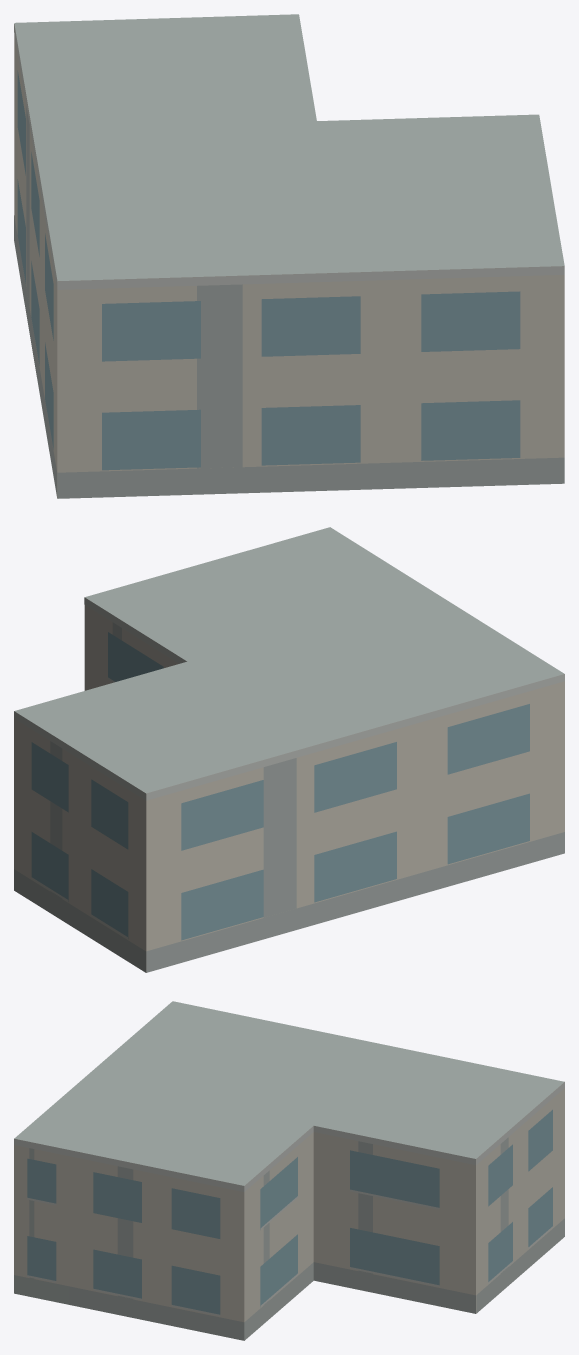
Rendered from residential-a7846ea3-0d1a-451b-8f24-9fb4dfc0b4aa.glb.
3 renders of one model, top to bottom at view 1: azimuth 30°, elevation 25°; view 2: azimuth 150°, elevation 25°; view 3: azimuth 270°, elevation 25°, orthographic. The views are drawn at different scales.
Parts seen in each view (by area): view 1: residential-a7846ea3-0d1a-451b-8f24-9fb4dfc0b4aa.tmp; view 2: residential-a7846ea3-0d1a-451b-8f24-9fb4dfc0b4aa.tmp; view 3: residential-a7846ea3-0d1a-451b-8f24-9fb4dfc0b4aa.tmp.
Boxes of the visible parts, left/top/right/bottom form: residential-a7846ea3-0d1a-451b-8f24-9fb4dfc0b4aa.tmp: left=14, top=14, right=564, bottom=498; residential-a7846ea3-0d1a-451b-8f24-9fb4dfc0b4aa.tmp: left=14, top=527, right=564, bottom=972; residential-a7846ea3-0d1a-451b-8f24-9fb4dfc0b4aa.tmp: left=14, top=1001, right=564, bottom=1340.
Size of the model in its own units: 15.37 by 6 by 19.35.
